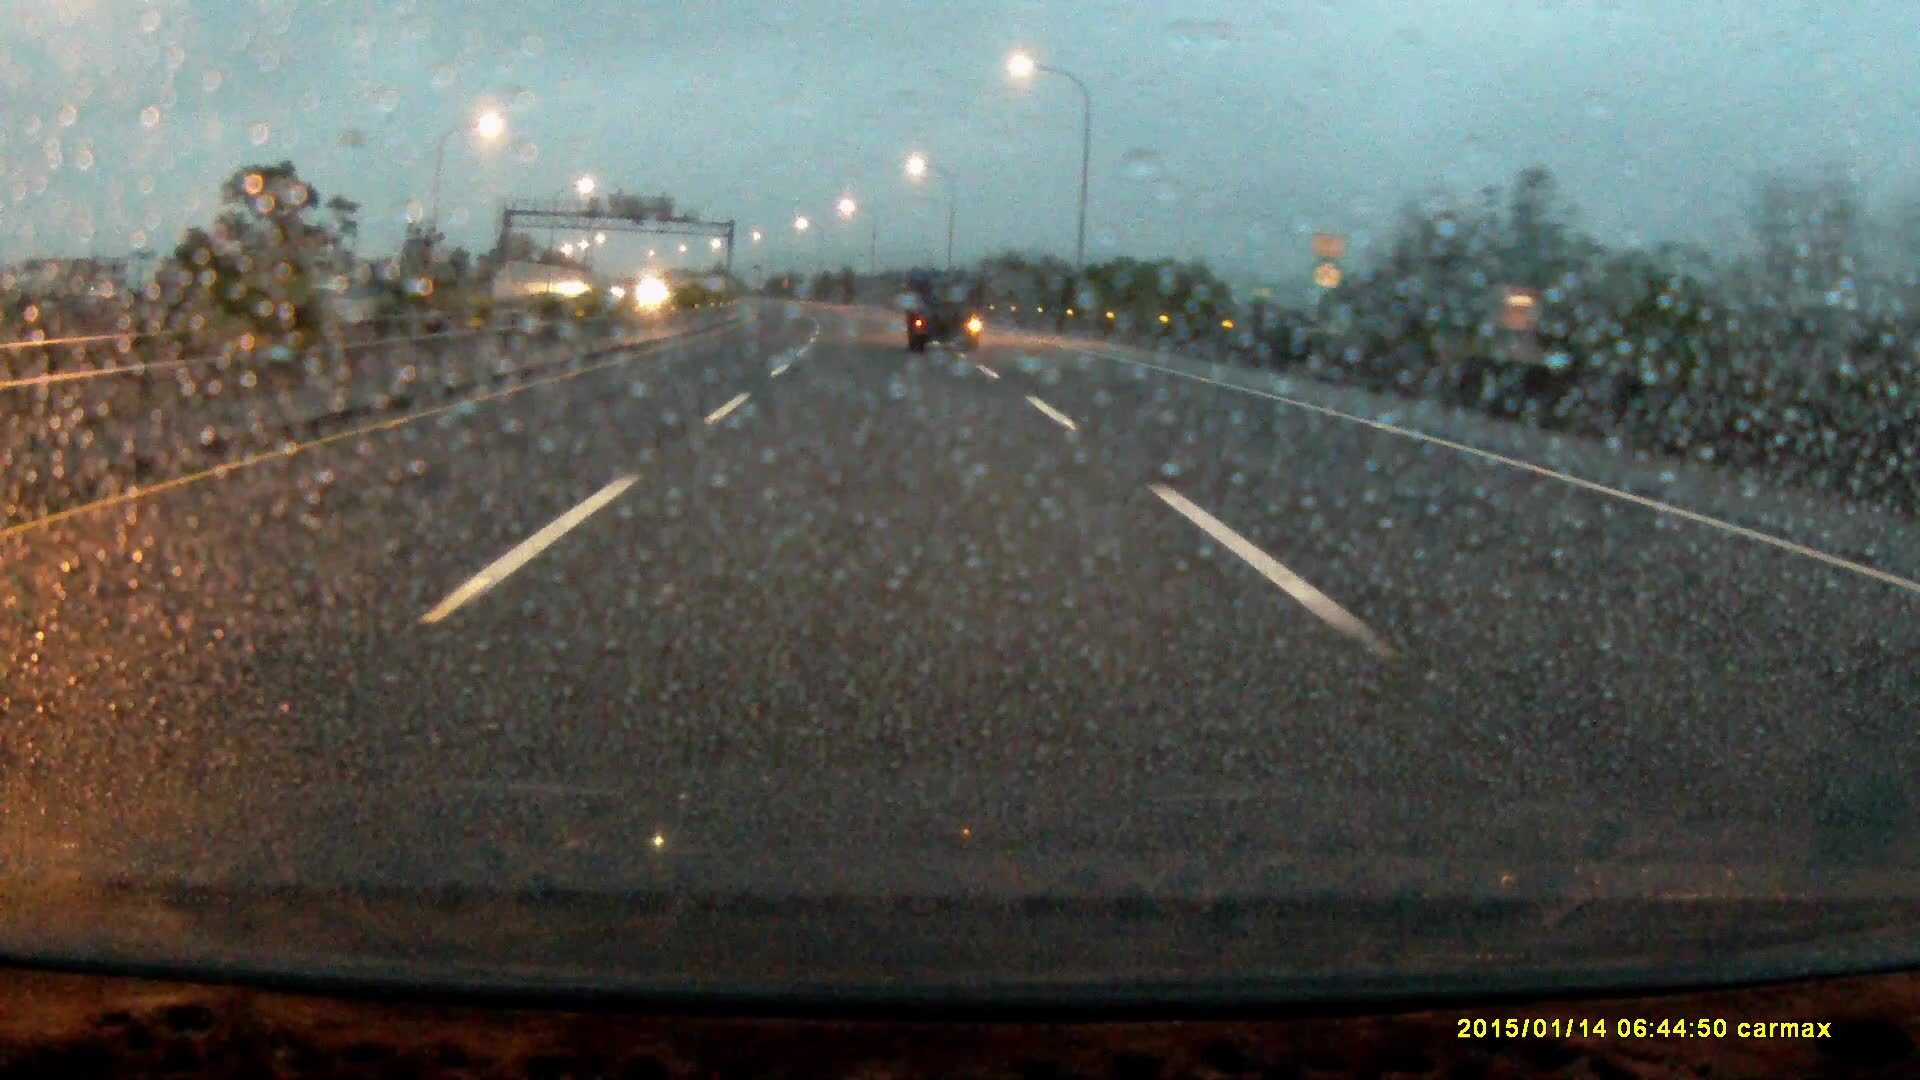vehicle: (906, 272, 982, 355)
